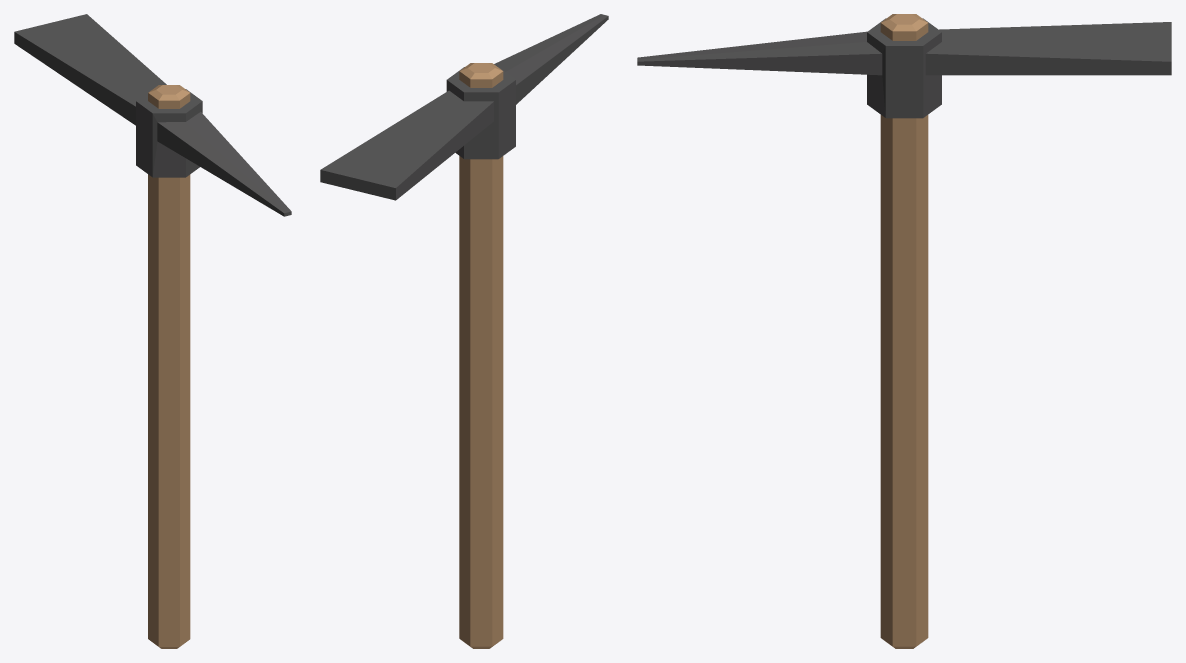
File: Pickaxe-col.glb
3 renders of one model, left to right at view 1: azimuth 30°, elevation 25°; view 2: azimuth 150°, elevation 25°; view 3: azimuth 270°, elevation 25°, orthographic. The views are drawn at different scales.
Visible parts, largest first — view 1: Pickaxe-col; view 2: Pickaxe-col; view 3: Pickaxe-col.
Part boxes in pixels (x1,y1,x2,y2): Pickaxe-col: [14, 14, 291, 648]; Pickaxe-col: [320, 14, 608, 648]; Pickaxe-col: [637, 14, 1171, 648].
Size of the model in its own units: 0.1894 by 1.38 by 1.07.
